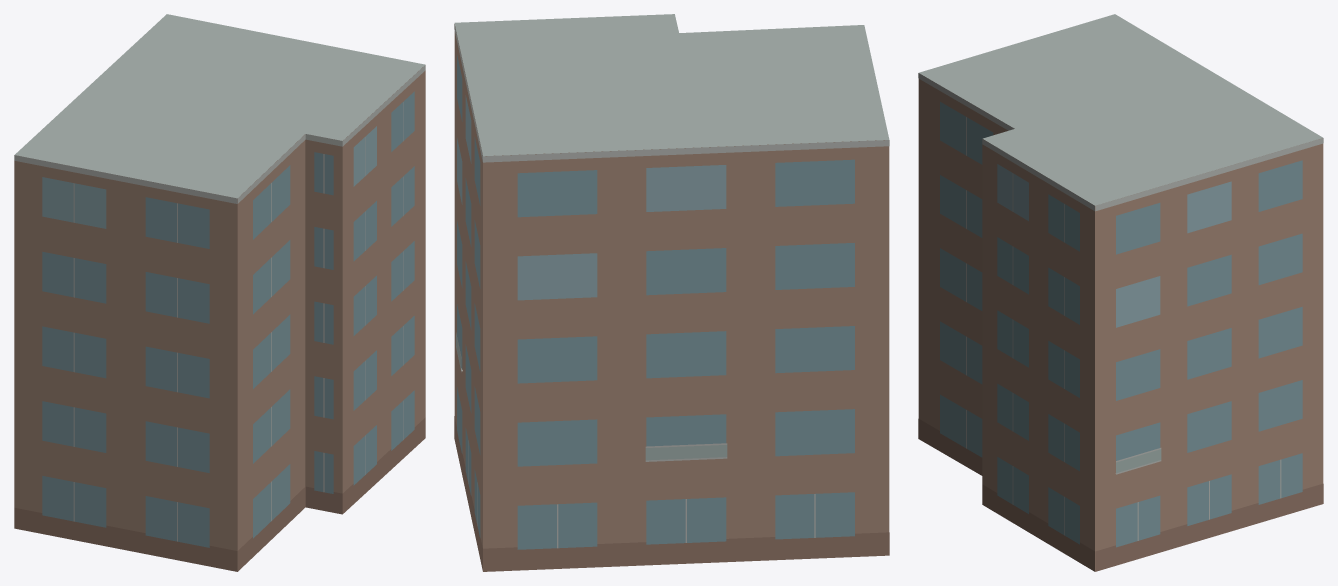
Rendered from survey-upis-32924968.glb.
3 renders of one model, left to right at view 1: azimuth 30°, elevation 25°; view 2: azimuth 150°, elevation 25°; view 3: azimuth 270°, elevation 25°, orthographic. The views are drawn at different scales.
Parts seen in each view (by area): view 1: survey-upis-32924968.tmp; view 2: survey-upis-32924968.tmp; view 3: survey-upis-32924968.tmp.
Boxes of the visible parts, x1,y1,x2,y2 form: survey-upis-32924968.tmp: [14, 14, 425, 571]; survey-upis-32924968.tmp: [454, 14, 889, 571]; survey-upis-32924968.tmp: [918, 14, 1323, 571].
Bounding box in the file's own units: 17.87 × 15.9 × 15.95.
